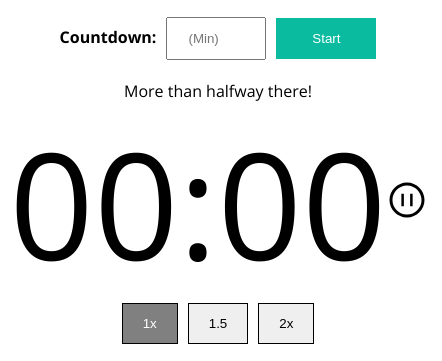
it: Input for timer accepts only numbers
This screenshot has width=442, height=361.
Type "adfs" into the field named "timer-input". click: x=216, y=38
box: [166,16,266,60]
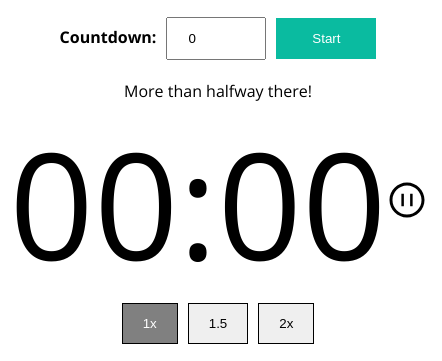
Check: the field named "timer-input" holds "0", box [166,16,266,60]
